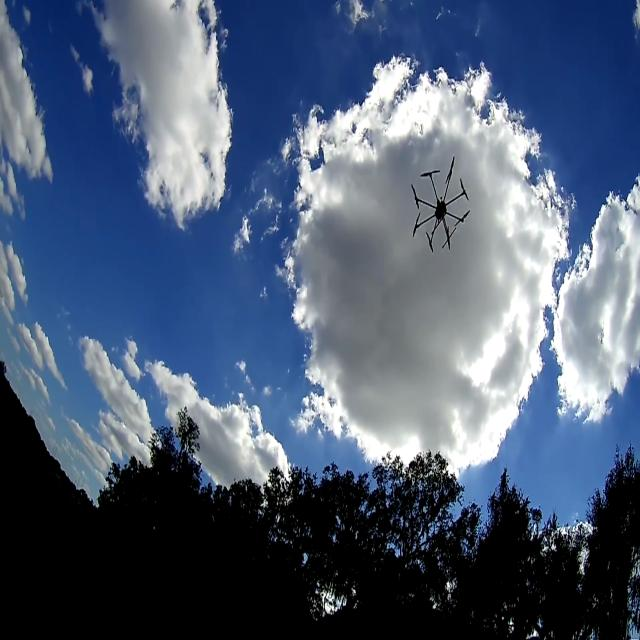drone: (404, 164, 485, 254)
